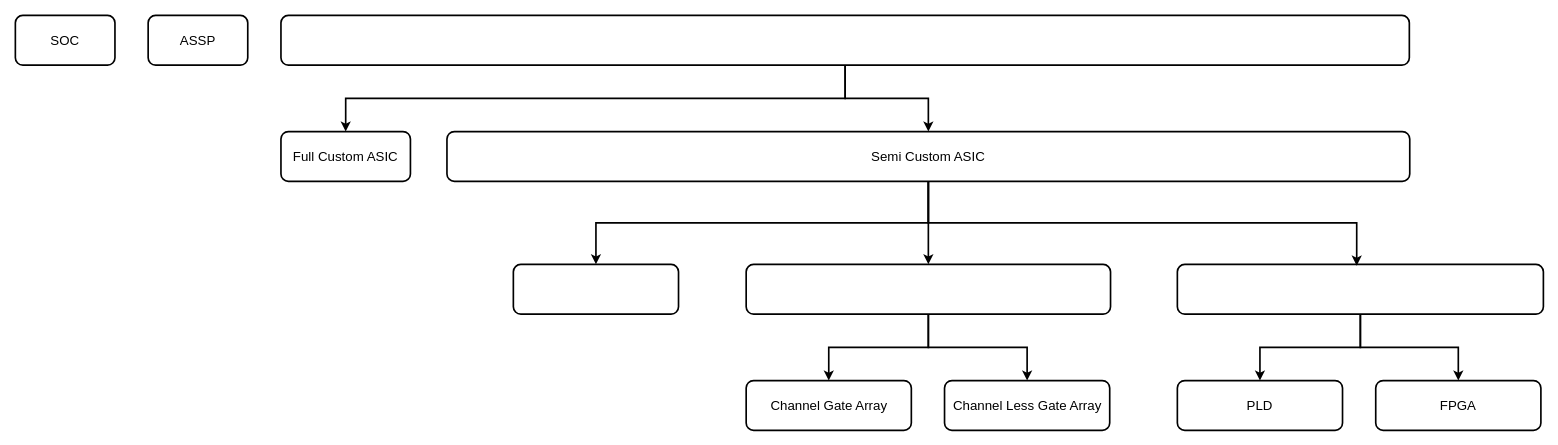
Image size: 1558x445. Some labels were removed from this diagram. Each missing label, with the centre of its shape:
"ASIC [Application Specific Integrated Circuits]" belongs at pixel 845 40.
"Gate Array based ASIC" belongs at pixel 928 289.
"Programmable ASIC" belongs at pixel 1360 289.
"Standard Cell based ASIC" belongs at pixel 595 289.
